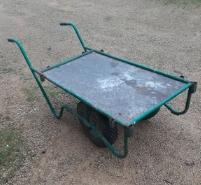BROUETTE: (4, 21, 201, 158)
